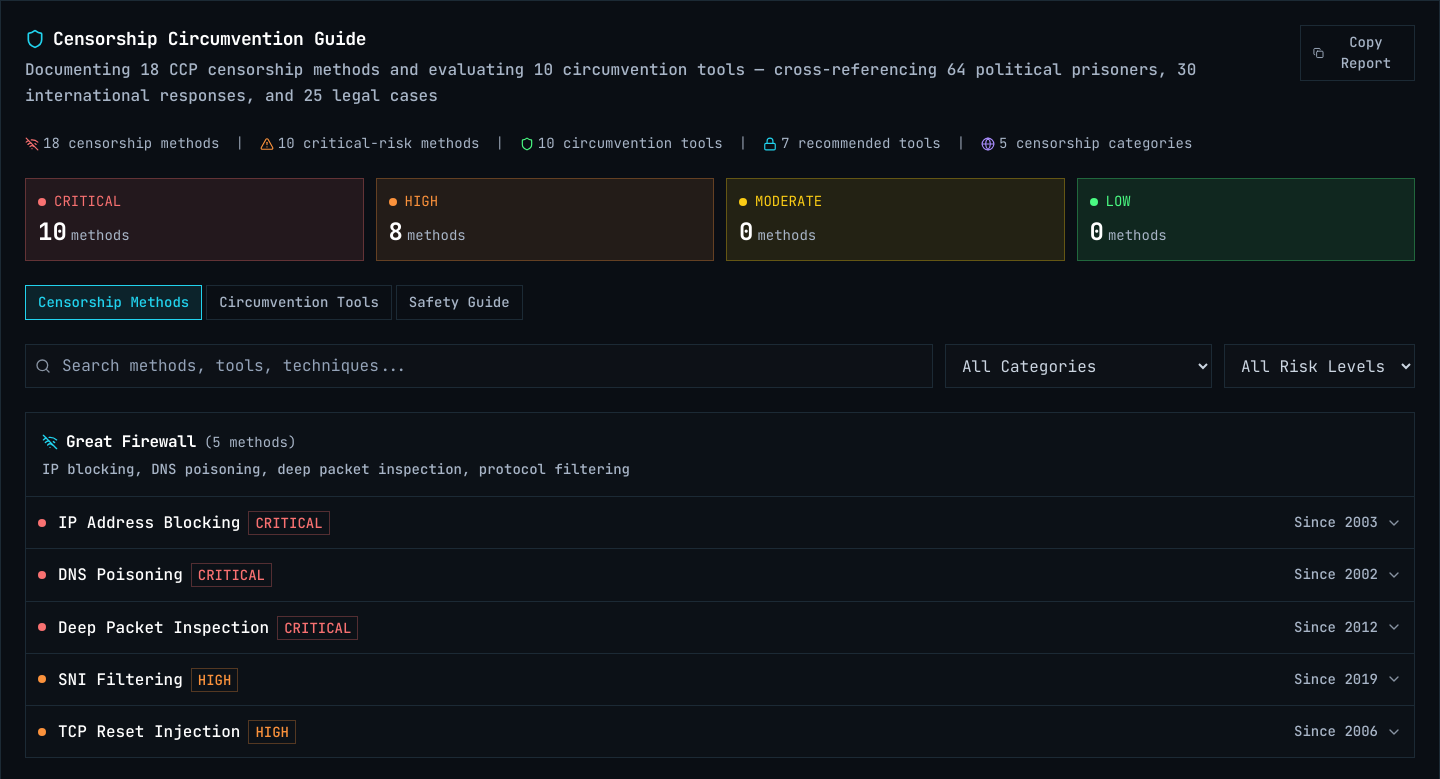
CensorshipCircumventionGuide › clicking a method expands it
Click the button that starts with "IP Address Blocking": (149, 523) [26,497,1414,548]
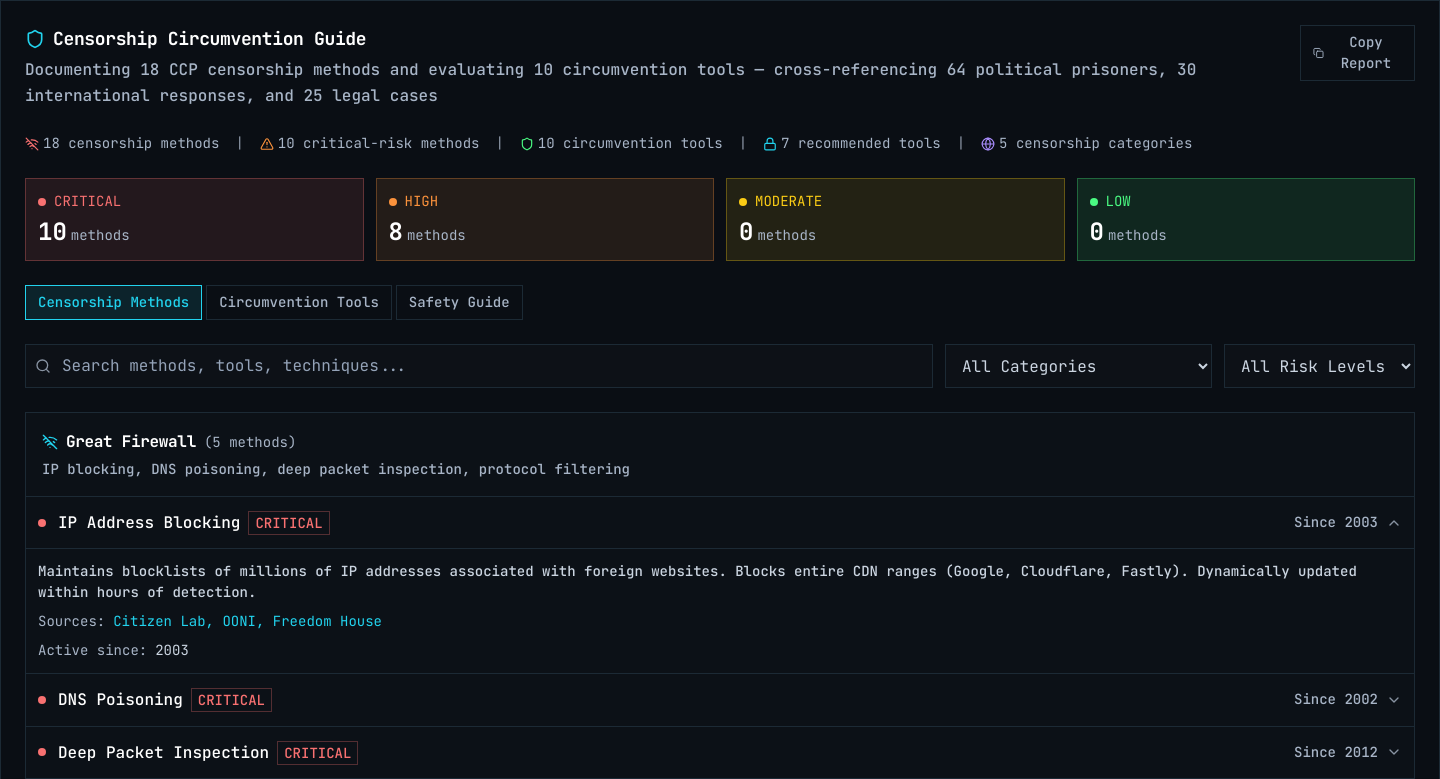
Check: the button that starts with "IP Address Blocking" is expanded, box [26,497,1414,548]
